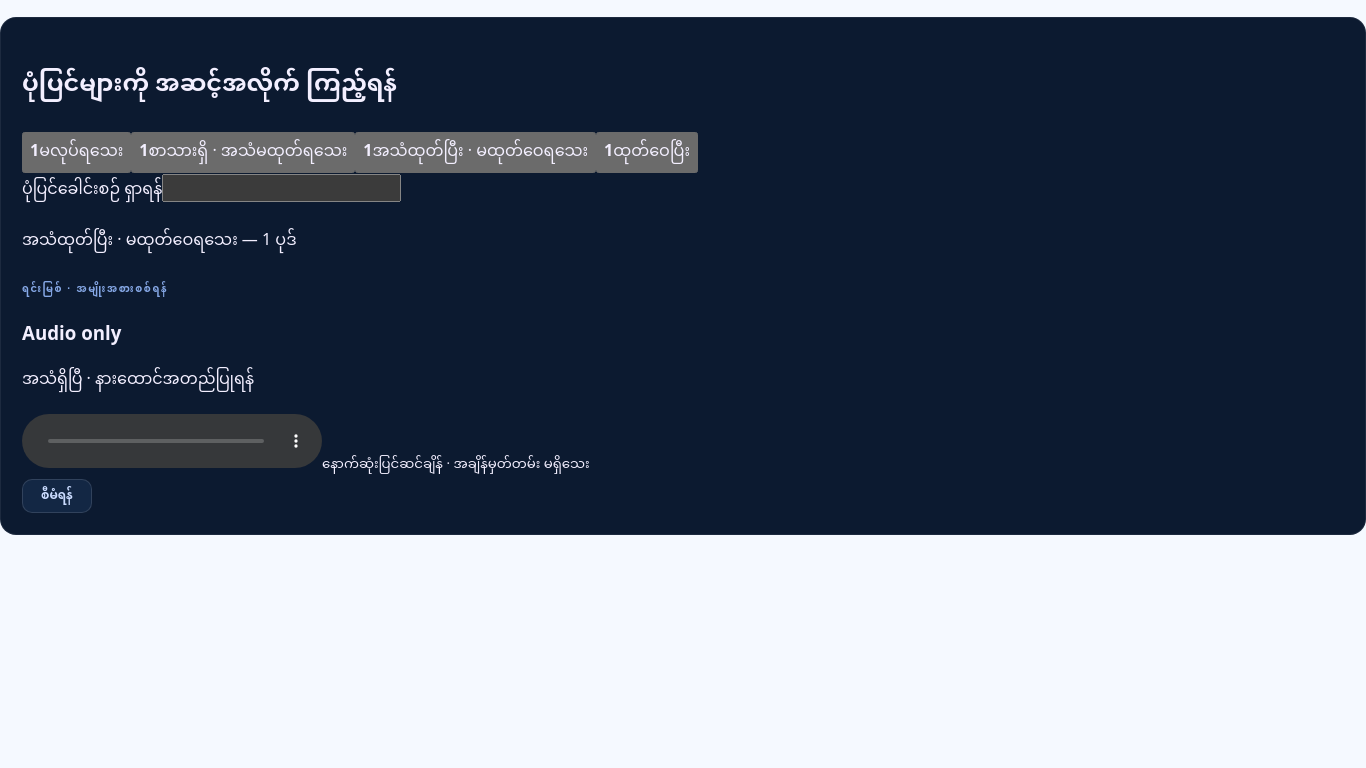
Test: keeps generated audio, published stories, text drafts, and untouched sources in separate lists
Expected: the heading "Audio only" is shown, [22,320,121,344]
Expected: the text "Untouched" is not shown
Click the button "1ထုတ်ဝေပြီး".
click(647, 152)  # box [596,132,698,173]
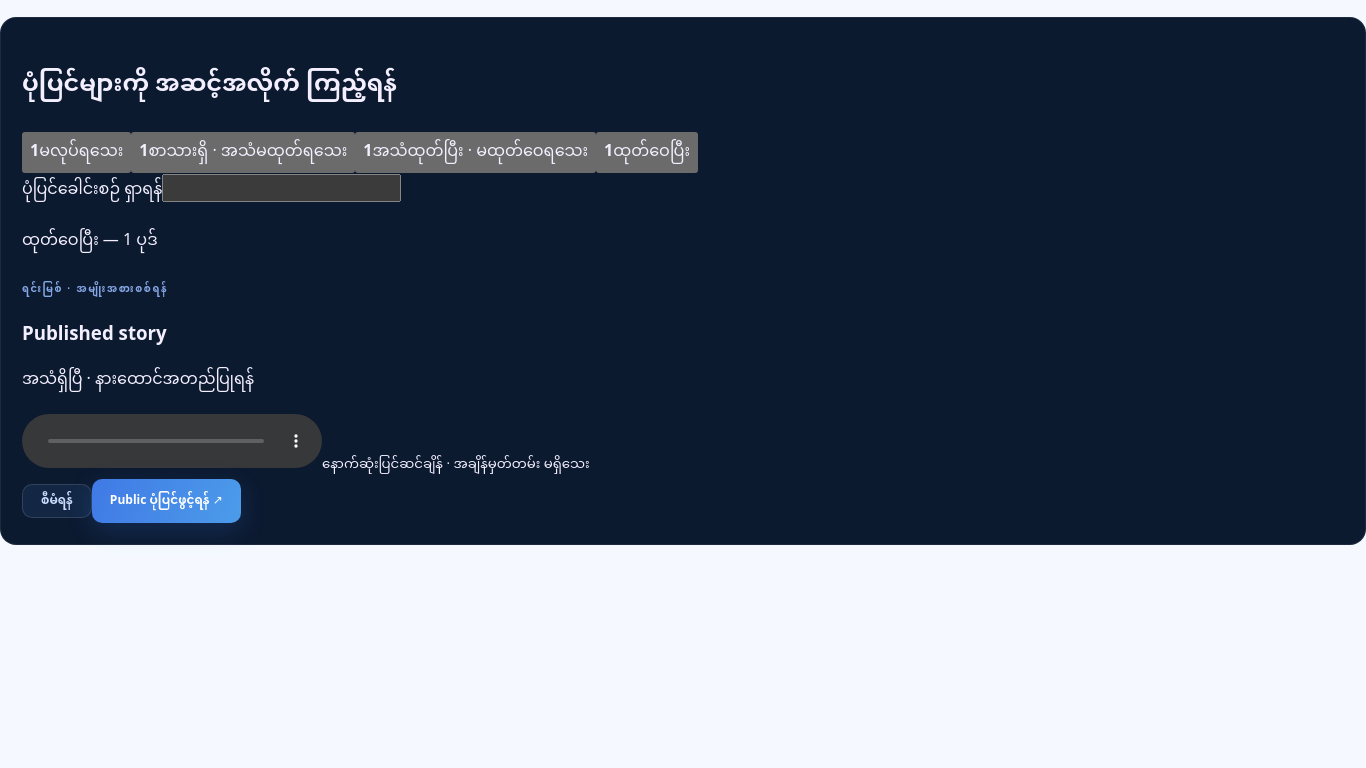
Now the heading "Published story" is shown, box [22,320,167,344]
Now the heading "Audio only" is gone
Click the button "1မလုပ်ရသေး".
click(77, 152)  # box [22,132,131,173]
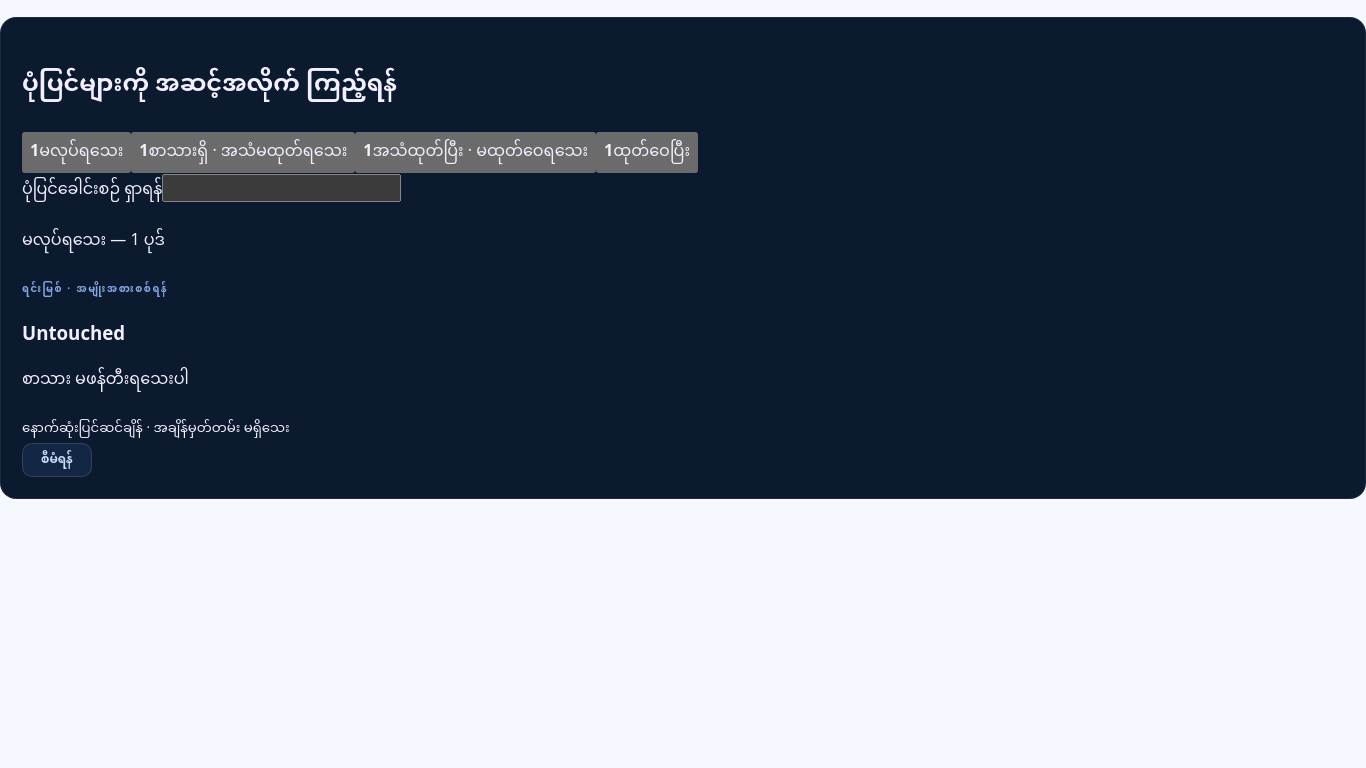
Now the heading "Untouched" is shown, box [22,320,125,344]
